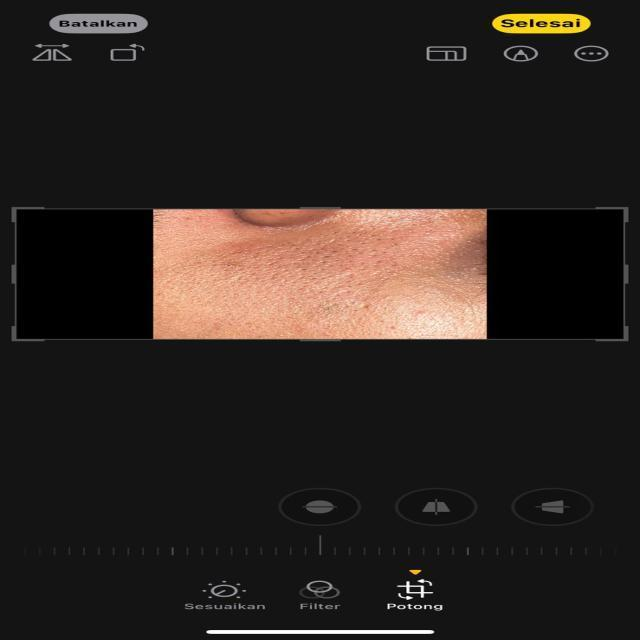blackhead: (274, 228, 410, 307)
